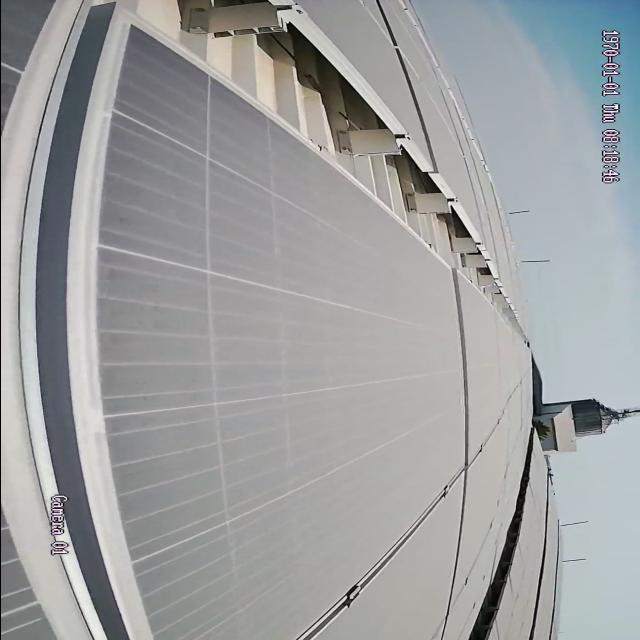interior panel: (0, 11, 153, 638), (295, 441, 483, 637), (447, 281, 477, 461)
outher panel: (92, 6, 519, 325), (466, 479, 529, 640)
